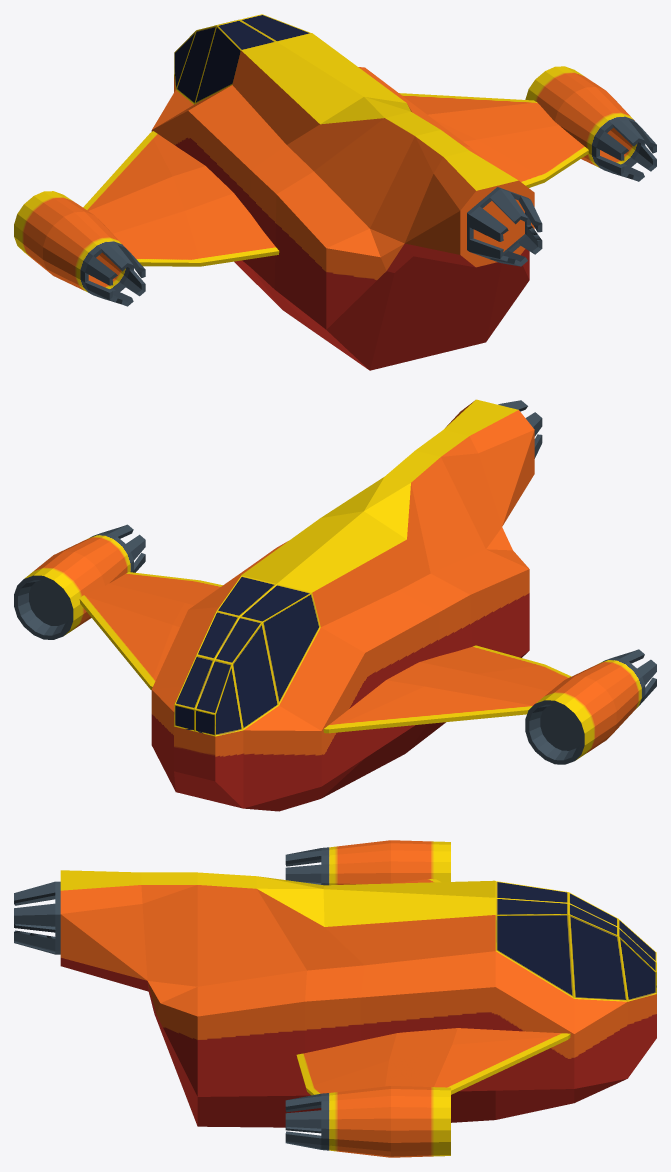
The model's file is Player_Model.fbx.
3 renders of one model, top to bottom at view 1: azimuth 30°, elevation 25°; view 2: azimuth 150°, elevation 25°; view 3: azimuth 270°, elevation 25°, orthographic.
Parts seen in each view (by area): view 1: Body, Right Thruster; view 2: Body, Right Thruster; view 3: Body, Right Thruster.
Boxes of the visible parts, bbox=[...] form: Body: bbox=[83, 14, 588, 370]; Right Thruster: bbox=[14, 66, 656, 306]; Body: bbox=[79, 399, 571, 811]; Right Thruster: bbox=[14, 524, 656, 764]; Body: bbox=[14, 870, 656, 1127]; Right Thruster: bbox=[285, 840, 450, 1157].
Size of the model in its own units: 403 by 150 by 397.
